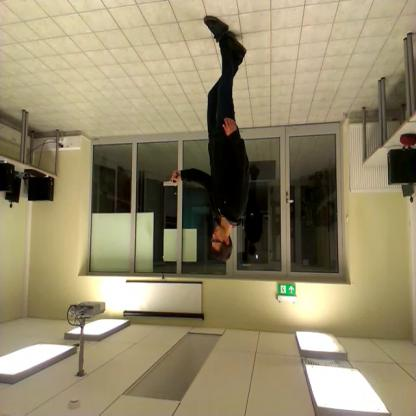Pistol: (160, 160, 183, 194)
